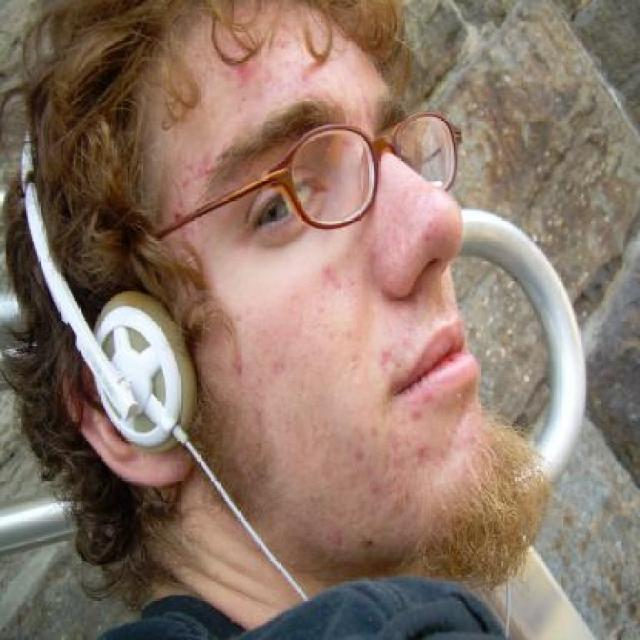earphone: (20, 119, 238, 450)
